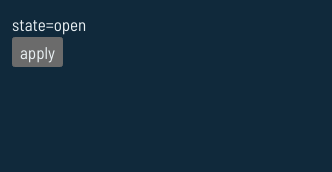
Test: useQueryState › removes offset when a filter changes
Click the button "apply". click: (38, 52)
box: [12,37,63,67]
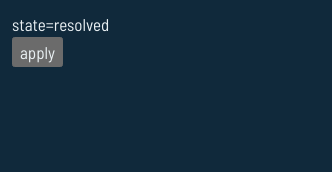
Expected: the text "state=resolved" is shown, [12,14,109,34]
